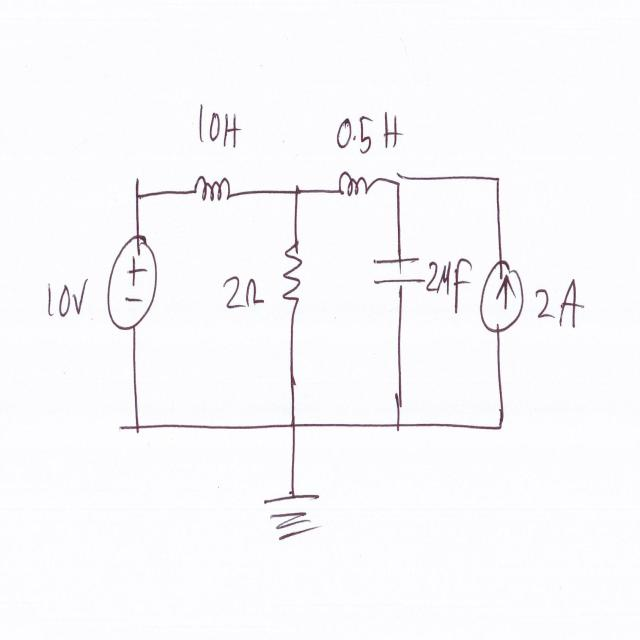capacitor: (372, 251, 428, 291)
current_source: (478, 251, 526, 339)
ground: (260, 488, 324, 548)
inductor: (190, 168, 238, 211), (331, 163, 373, 205)
resistor: (279, 239, 304, 308)
voltage_source: (104, 228, 160, 336)
